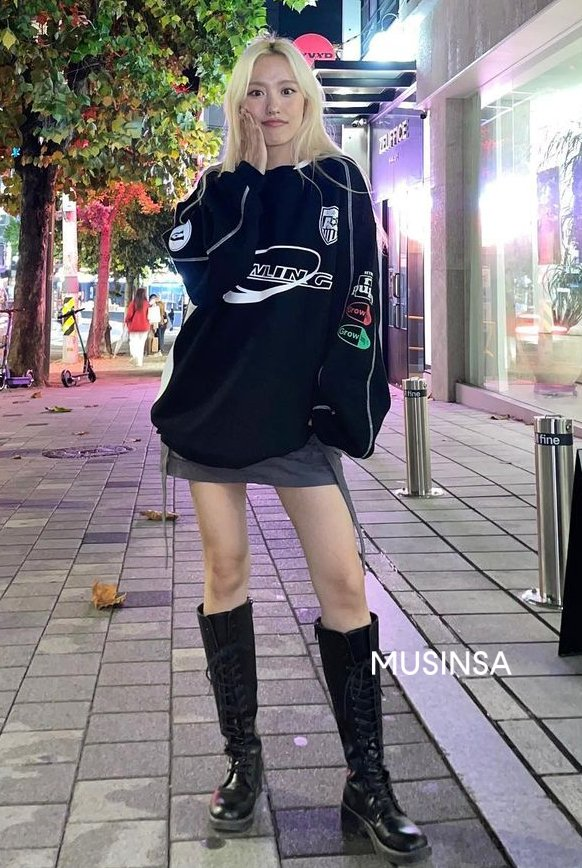Boots: (188, 591, 445, 861)
Skirt: (158, 431, 351, 487)
Top: (170, 146, 396, 444)
